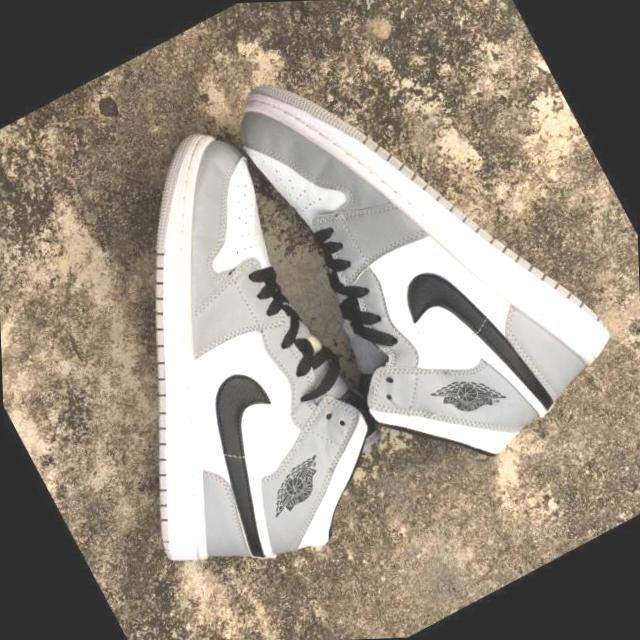nike_fake_jordan: (0, 111, 437, 626), (207, 0, 639, 505)
